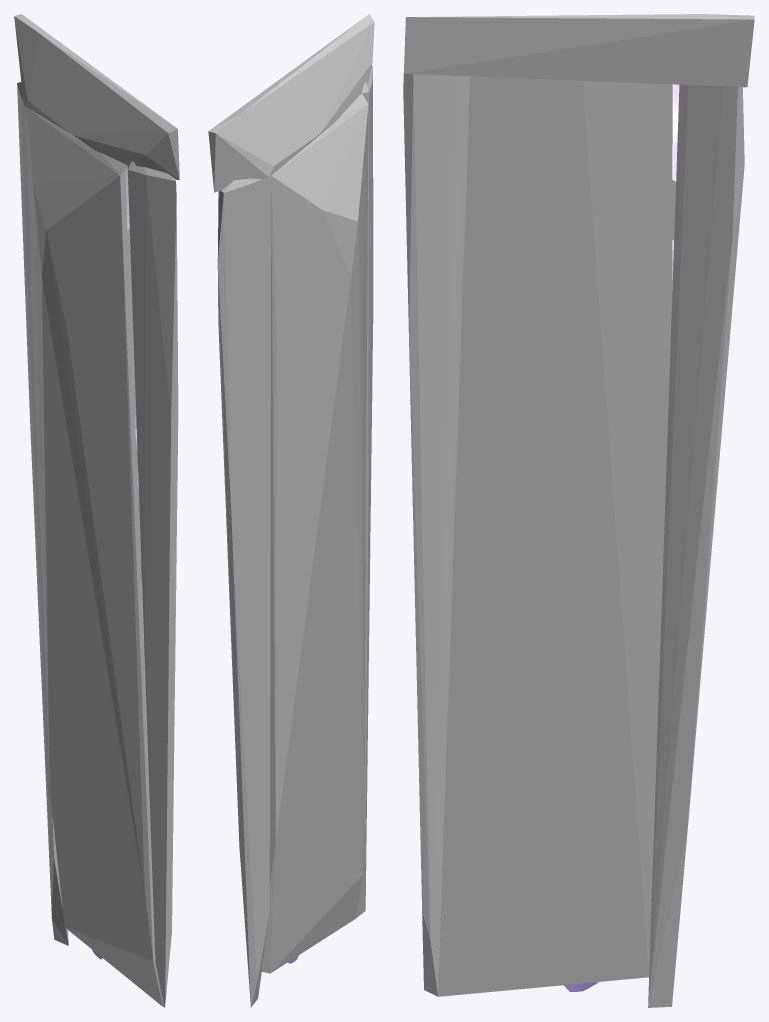
The model's file is SM_Env_Flowers_Line_02.fbx.
3 views of the same model, side by side, from view 1: azimuth 30°, elevation 25°; view 2: azimuth 150°, elevation 25°; view 3: azimuth 270°, elevation 25° (orthographic). The views are drawn at different scales.
Visible parts, largest first — view 1: SM_Env_Flowers_Line_02_ConvexHulls, SM_Env_Flowers_Line_02; view 2: SM_Env_Flowers_Line_02_ConvexHulls; view 3: SM_Env_Flowers_Line_02_ConvexHulls, SM_Env_Flowers_Line_02.
Part boxes in pixels (x1,y1,x2,y2): SM_Env_Flowers_Line_02_ConvexHulls: (14, 14, 179, 1007); SM_Env_Flowers_Line_02: (92, 167, 145, 959); SM_Env_Flowers_Line_02_ConvexHulls: (208, 14, 374, 1007); SM_Env_Flowers_Line_02_ConvexHulls: (403, 14, 754, 1007); SM_Env_Flowers_Line_02: (564, 84, 679, 991).
Size of the model in its own units: 7.42 by 32.95 by 103.
Materials: 2 (1 with a texture image).
